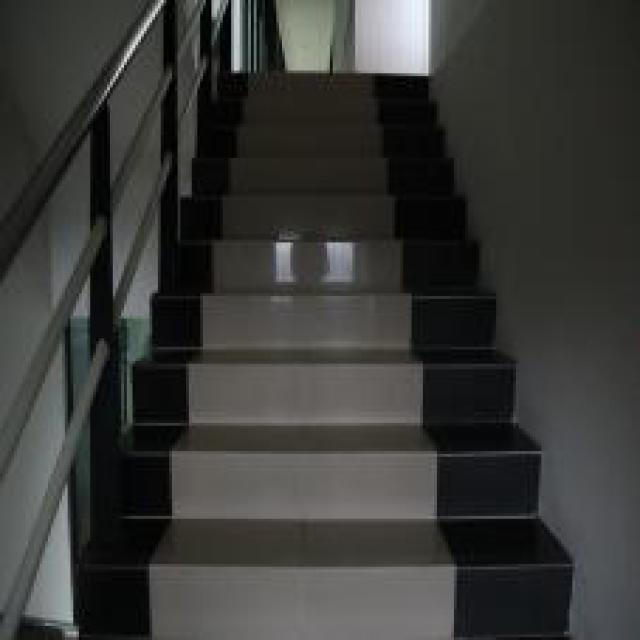upstair: (182, 148, 475, 540)
